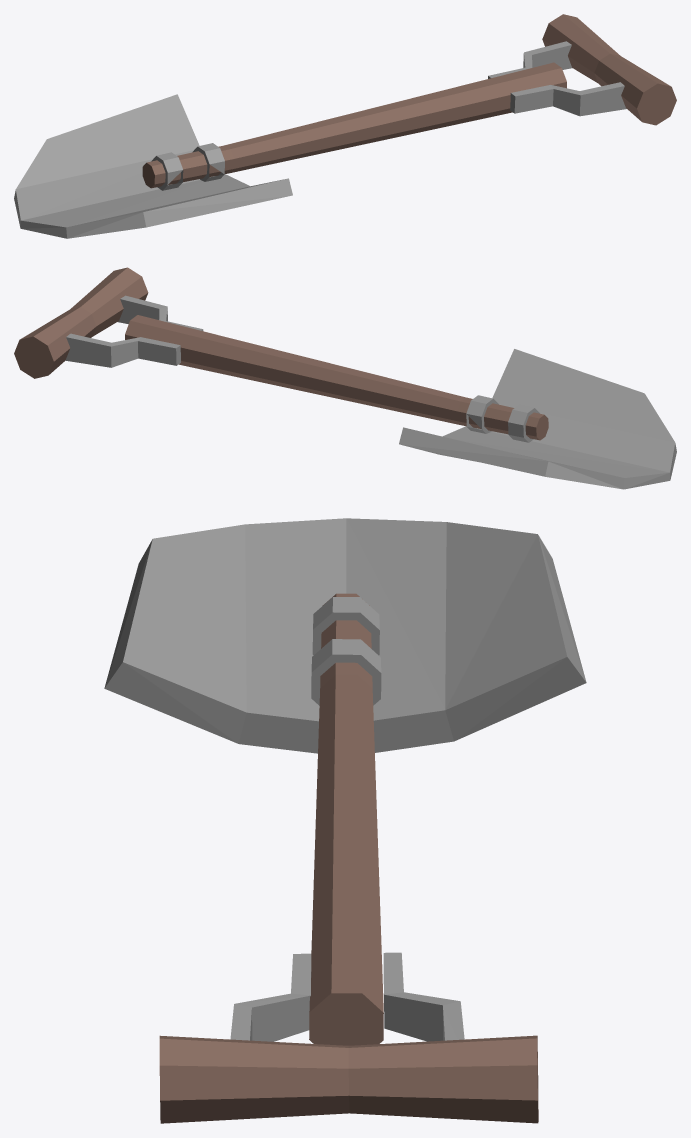
The model's file is shovel.glb.
3 views of the same model, one above another, from view 1: azimuth 30°, elevation 25°; view 2: azimuth 150°, elevation 25°; view 3: azimuth 270°, elevation 25° (orthographic). The views are drawn at different scales.
Parts seen in each view (by area): view 1: rock02_Mesh_007_Base_0.1317; view 2: rock02_Mesh_007_Base_0.1317; view 3: rock02_Mesh_007_Base_0.1317.
Part boxes in pixels (box(x1,y1,x2,y2)): rock02_Mesh_007_Base_0.1317: box(14, 14, 676, 238); rock02_Mesh_007_Base_0.1317: box(14, 267, 676, 489); rock02_Mesh_007_Base_0.1317: box(104, 518, 586, 1123).
Size of the model in its own units: 1.35 by 0.1146 by 0.463.
Materials: 1 (1 with a texture image).
